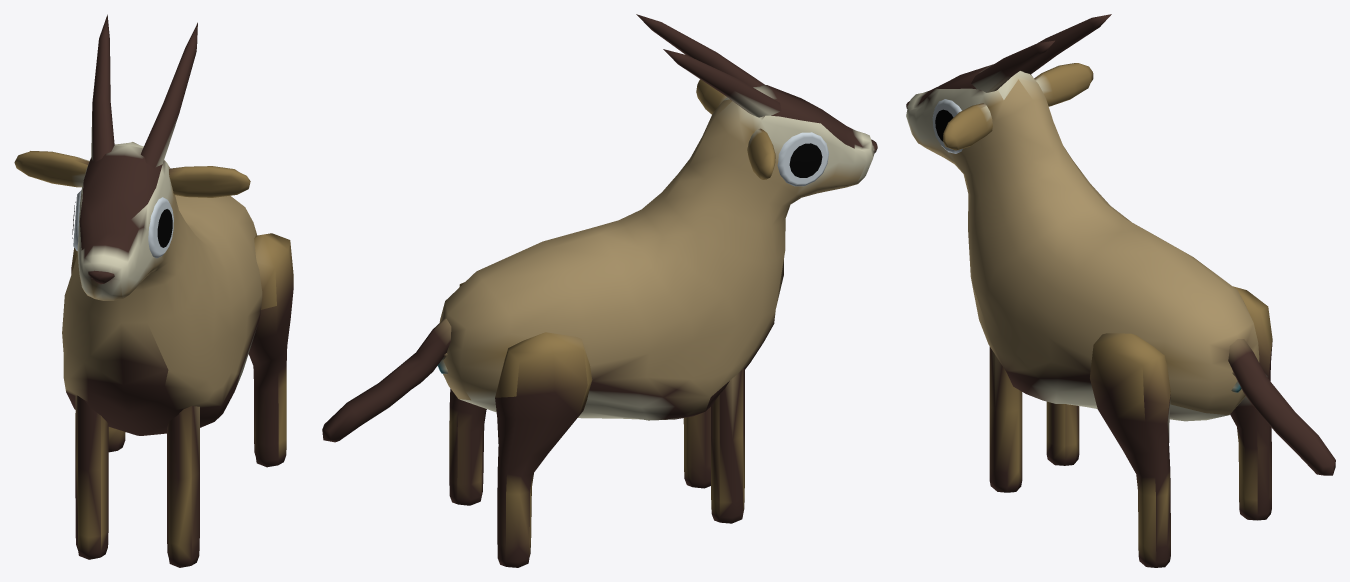
Rendered from Gemsbok.glb.
The picture shows the model from 3 angles, left to right: view 1: azimuth 30°, elevation 25°; view 2: azimuth 150°, elevation 25°; view 3: azimuth 270°, elevation 25°; orthographic projection. The views are drawn at different scales.
Visible parts, largest first — view 1: 56; view 2: 56; view 3: 56.
Boxes of the visible parts, x1,y1,x2,y2 form: 56: (14, 14, 293, 567); 56: (322, 14, 877, 567); 56: (906, 14, 1335, 567).
Size of the model in its own units: 0.8952 by 1.19 by 0.9865.
